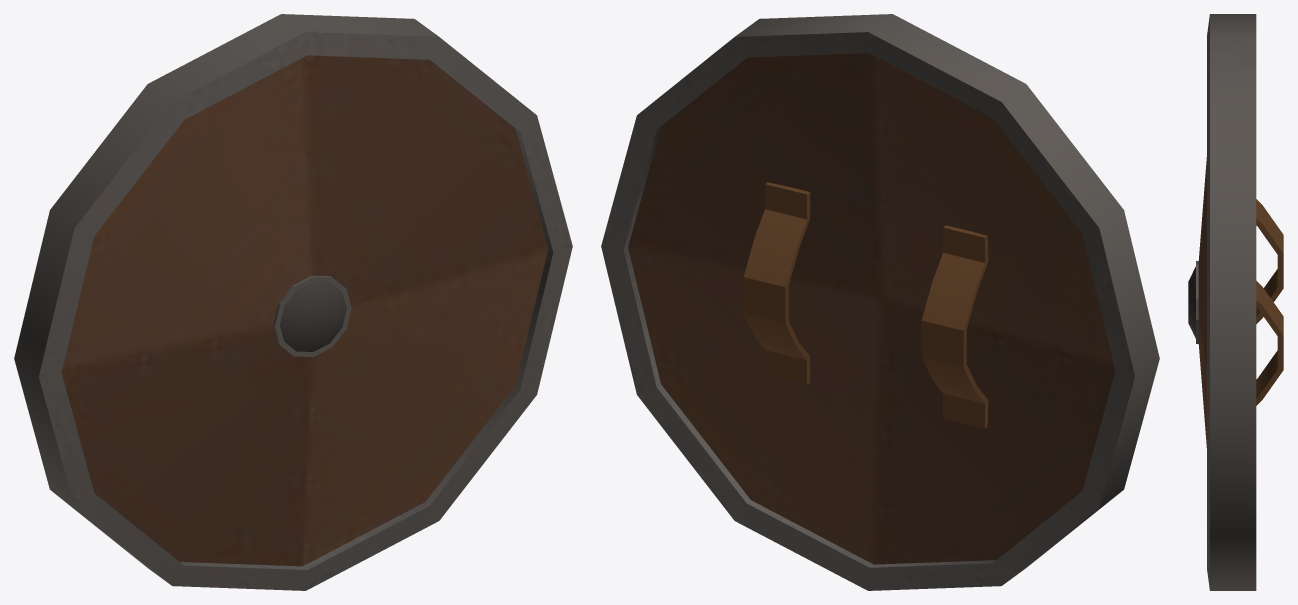
File: Round Shield_Brown.fbx
3 renders of one model, left to right at view 1: azimuth 30°, elevation 25°; view 2: azimuth 150°, elevation 25°; view 3: azimuth 270°, elevation 25°, orthographic. The views are drawn at different scales.
Visible parts, largest first — view 1: Round Shield_Brown_Baked; view 2: Round Shield_Brown_Baked; view 3: Round Shield_Brown_Baked.
Part boxes in pixels (x1,y1,x2,y2): Round Shield_Brown_Baked: (14,14,572,590); Round Shield_Brown_Baked: (601,14,1159,590); Round Shield_Brown_Baked: (1188,14,1283,590).
Size of the model in its own units: 60 by 60 by 9.87.
1 material, 1 textured.
